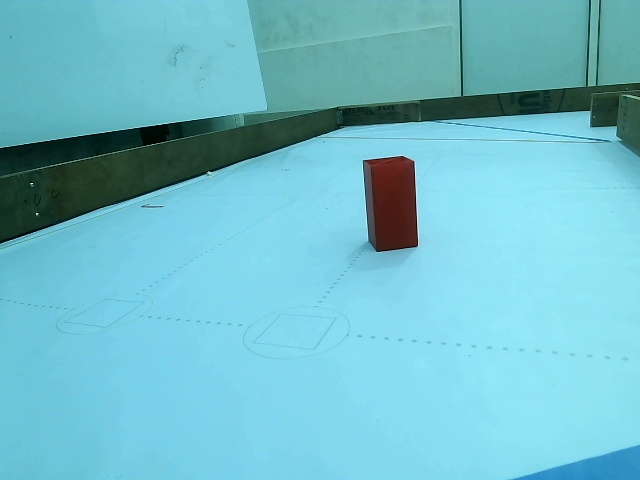red: (361, 157, 421, 251)
